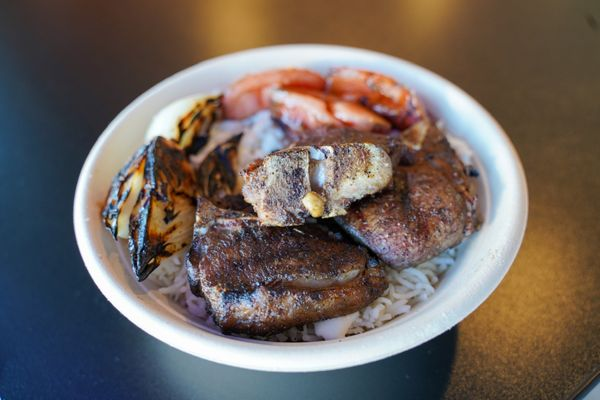sushi: (72, 54, 554, 377)
